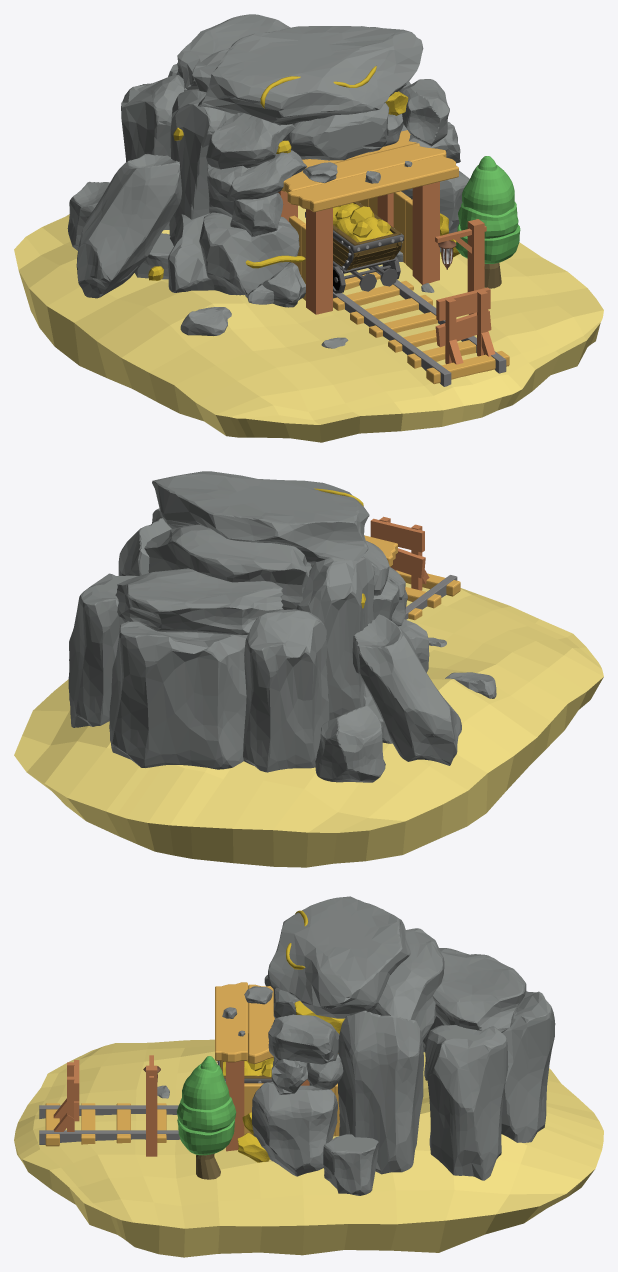
File: altin_madeni.fbx
3 views of the same model, one above another, from view 1: azimuth 30°, elevation 25°; view 2: azimuth 150°, elevation 25°; view 3: azimuth 270°, elevation 25° (orthographic). The views are drawn at different scales.
Parts seen in each view (by area): view 1: Plane, Cube.020, Cube.022, Cube.001, Cube.055, Cube.006, Cube.011, Cube.014, Cube.007, Cube.009, Cube.078, Cube.071 (+28 smaller); view 2: Plane, Cube.005, Cube.020, Cube.007, Cube.022, Cube.018, Cube.019, Cube.006, Cube.004, Cube.021, Cube.078, Cube.003 (+6 smaller); view 3: Plane, Cube.020, Cube.003, Cube.004, Cube.005, Cube, Cube.018, Cube.019, Cube.017, Cube.028, Cube.011, Cube.055 (+14 smaller).
Boxes of the visible parts, bbox=[...] form: Plane: bbox=[14, 205, 603, 442]; Cube.020: bbox=[198, 26, 423, 125]; Cube.022: bbox=[76, 154, 181, 298]; Cube.001: bbox=[199, 212, 299, 295]; Cube.055: bbox=[333, 272, 509, 383]; Cube.006: bbox=[169, 90, 235, 236]; Cube.011: bbox=[287, 155, 458, 212]; Cube.014: bbox=[286, 102, 388, 160]; Cube.007: bbox=[121, 74, 184, 230]; Cube.009: bbox=[206, 113, 295, 169]; Cube.078: bbox=[435, 287, 495, 364]; Cube.071: bbox=[306, 208, 332, 314]; Plane: bbox=[14, 583, 603, 867]; Cube.005: bbox=[109, 621, 247, 769]; Cube.020: bbox=[152, 471, 369, 564]; Cube.007: bbox=[243, 609, 329, 772]; Cube.022: bbox=[352, 614, 461, 765]; Cube.018: bbox=[115, 568, 283, 635]; Cube.019: bbox=[144, 524, 311, 609]; Cube.006: bbox=[296, 557, 374, 720]; Cube.004: bbox=[68, 573, 138, 727]; Cube.021: bbox=[315, 705, 385, 782]; Cube.078: bbox=[370, 516, 429, 590]; Cube.003: bbox=[118, 518, 171, 575]; Plane: bbox=[14, 1039, 603, 1257]; Cube.020: bbox=[268, 896, 410, 1018]; Cube.003: bbox=[338, 1010, 423, 1174]; Cube.004: bbox=[425, 1025, 508, 1180]; Cube.005: bbox=[501, 990, 555, 1142]; Cube: bbox=[252, 1081, 337, 1176]; Cube.018: bbox=[432, 951, 526, 1032]; Cube.019: bbox=[371, 928, 444, 1040]; Cube.017: bbox=[268, 1014, 339, 1064]; Cube.028: bbox=[323, 1134, 378, 1195]; Cube.011: bbox=[215, 982, 247, 1062]; Cube.055: bbox=[45, 1103, 166, 1146].
Bounding box in the file's own units: 989 × 587 × 1280.
